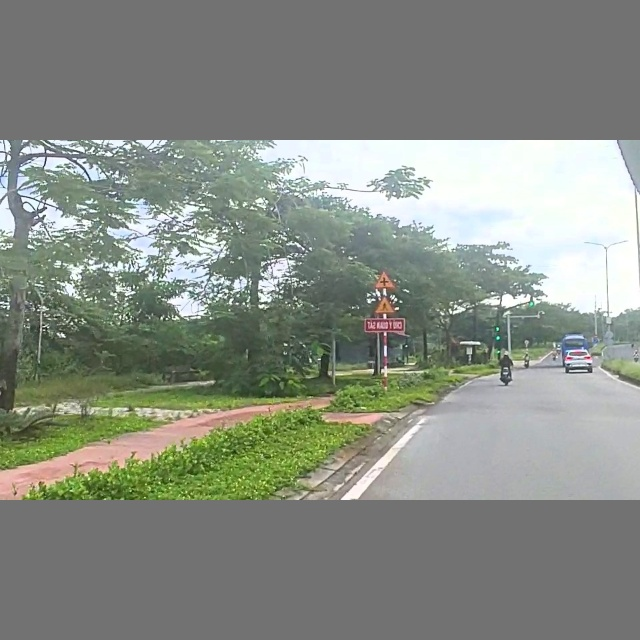W.205a: (374, 271, 397, 289)
W.224: (373, 295, 396, 313)
